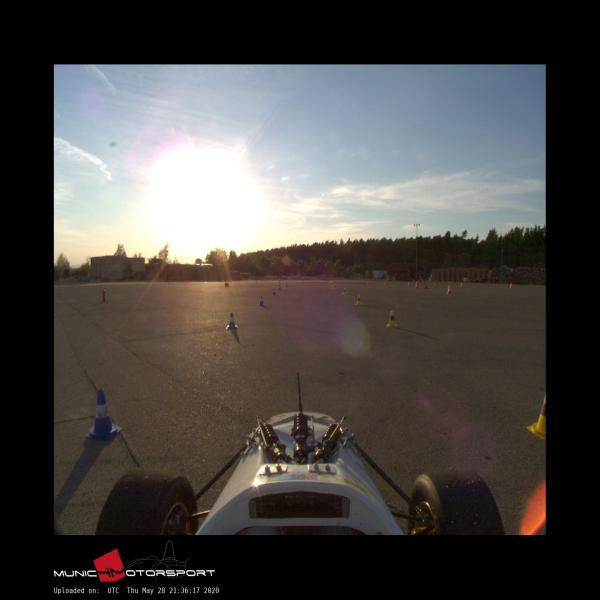blue_cone: (84, 388, 123, 442), (226, 312, 238, 329), (258, 296, 265, 306), (272, 288, 276, 295), (278, 285, 281, 290), (285, 283, 288, 287)
large_orange_cone: (446, 283, 451, 294), (415, 281, 419, 289)
yellow_cone: (527, 393, 546, 440), (386, 311, 398, 327), (356, 295, 363, 305), (343, 288, 346, 295), (334, 284, 337, 289), (331, 284, 334, 287)
